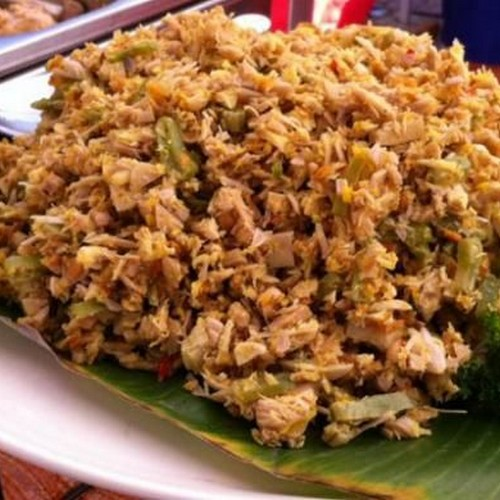lawar: (238, 29, 500, 344)
